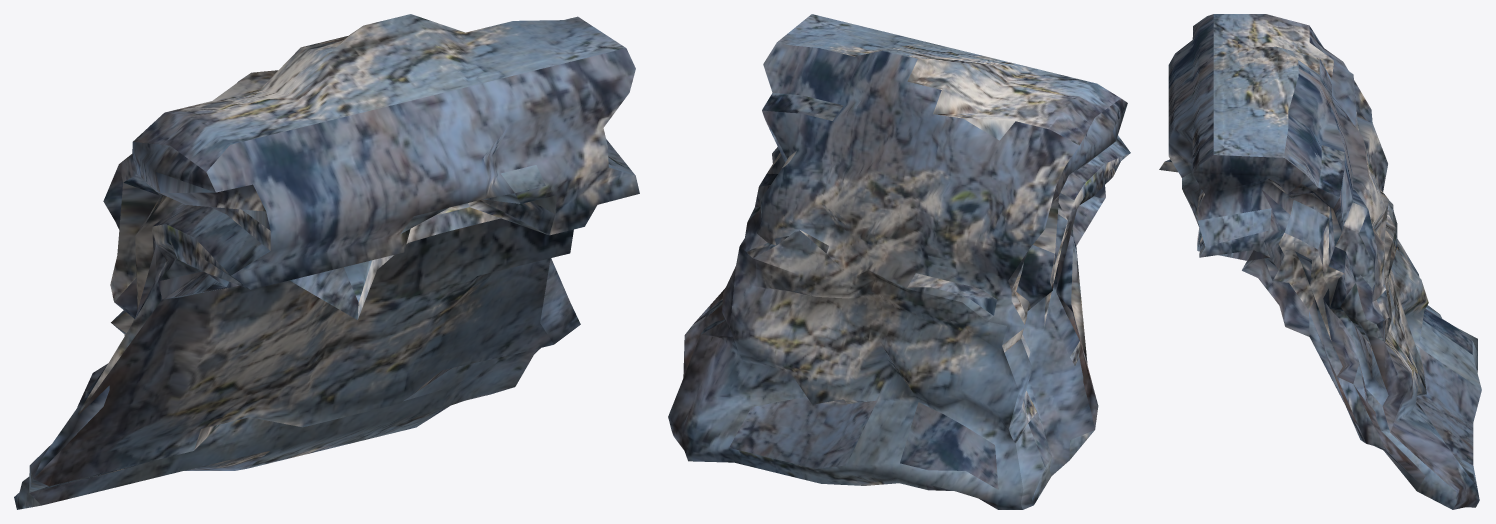
Rendered from cliff2.fbx.
3 renders of one model, left to right at view 1: azimuth 30°, elevation 25°; view 2: azimuth 150°, elevation 25°; view 3: azimuth 270°, elevation 25°, orthographic. The views are drawn at different scales.
Visible parts, largest first — view 1: Box005; view 2: Box005; view 3: Box005.
Part boxes in pixels (x1=…): Box005: x1=14, y1=14, x2=639, y2=509; Box005: x1=668, y1=14, x2=1130, y2=509; Box005: x1=1159, y1=14, x2=1481, y2=509.
Size of the model in its own units: 134 by 120 by 92.9.
